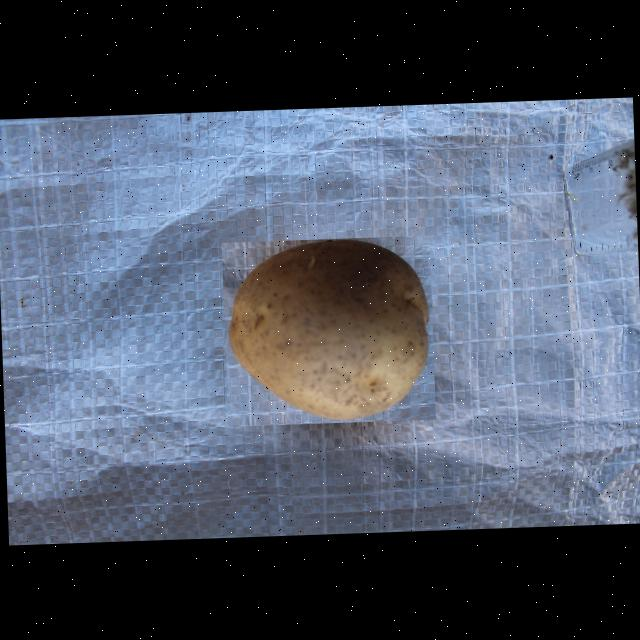Diseased-fungal potato: (220, 234, 434, 425)
